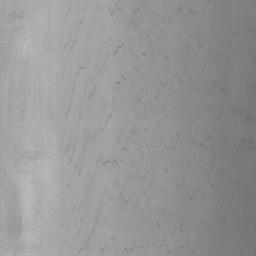Silk spot: (97, 158, 122, 166), (64, 140, 76, 156), (113, 42, 124, 56)
